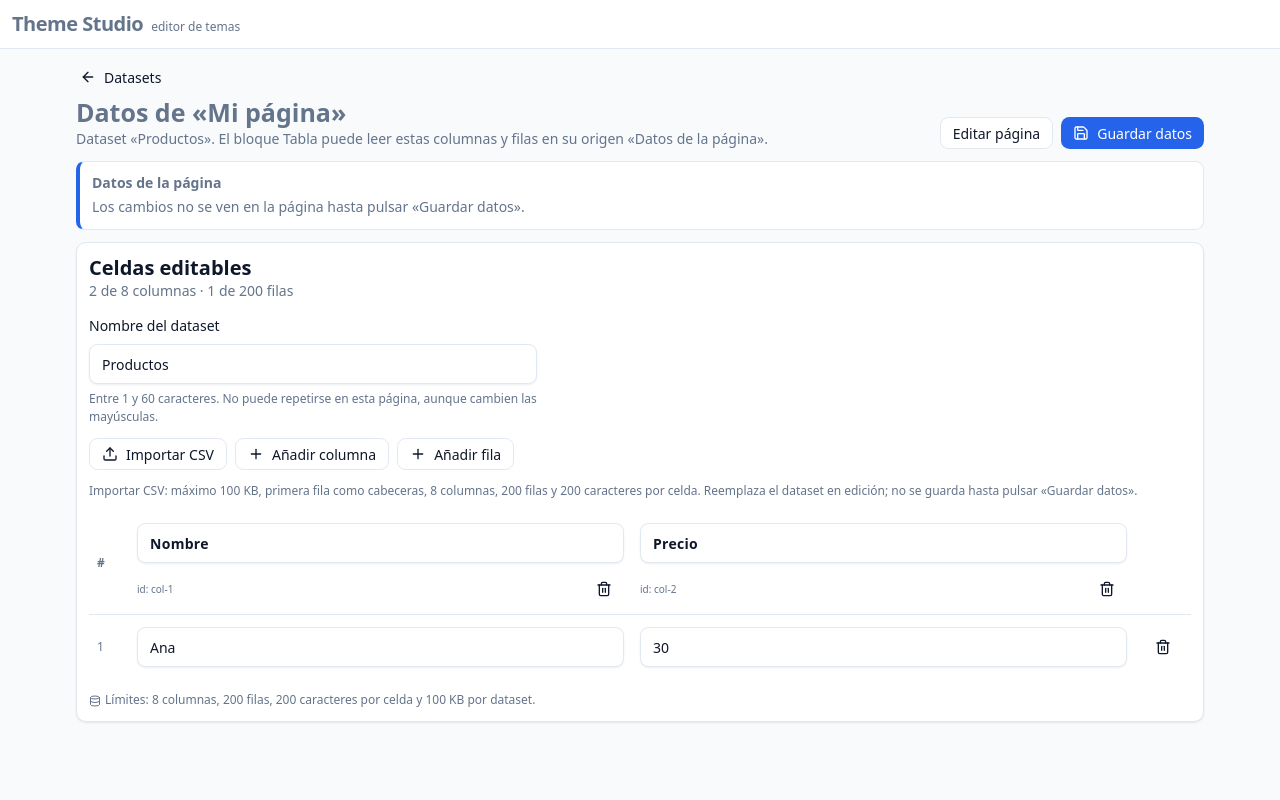
it: DatasetPage › renombra el dataset y lo guarda con el nuevo nombre
Later steps or results of the test are not shown.
Replace the text in the field labelled "Nombre del dataset" with "Catálogo" at (313, 364), box [89,344,537,384]
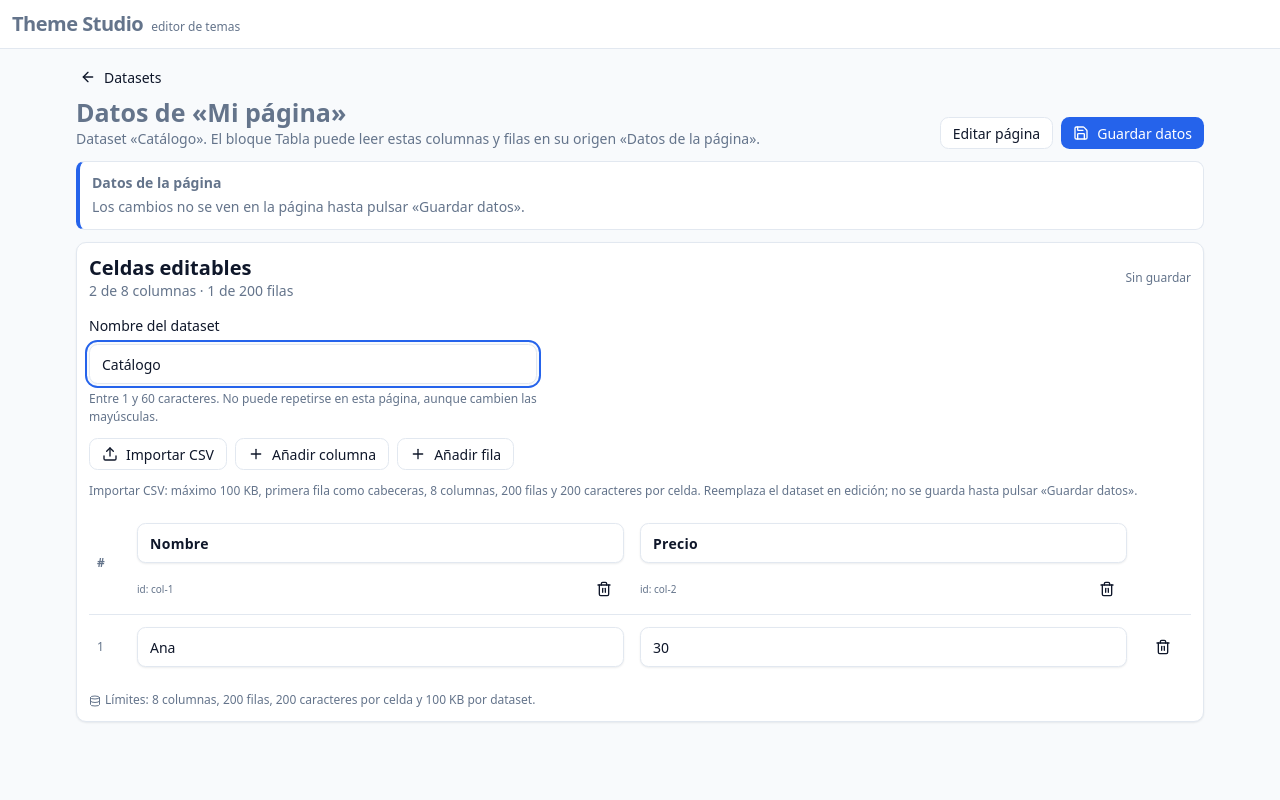
Expected: the text "Sin guardar" is shown, [1126,269,1191,287]
